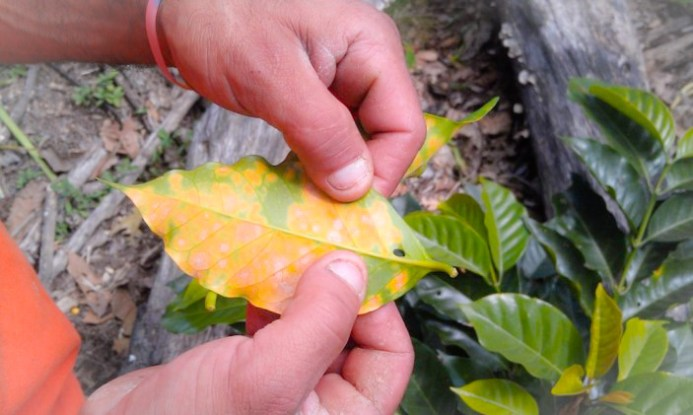mano: (133, 4, 453, 135)
roya: (167, 153, 410, 313)
